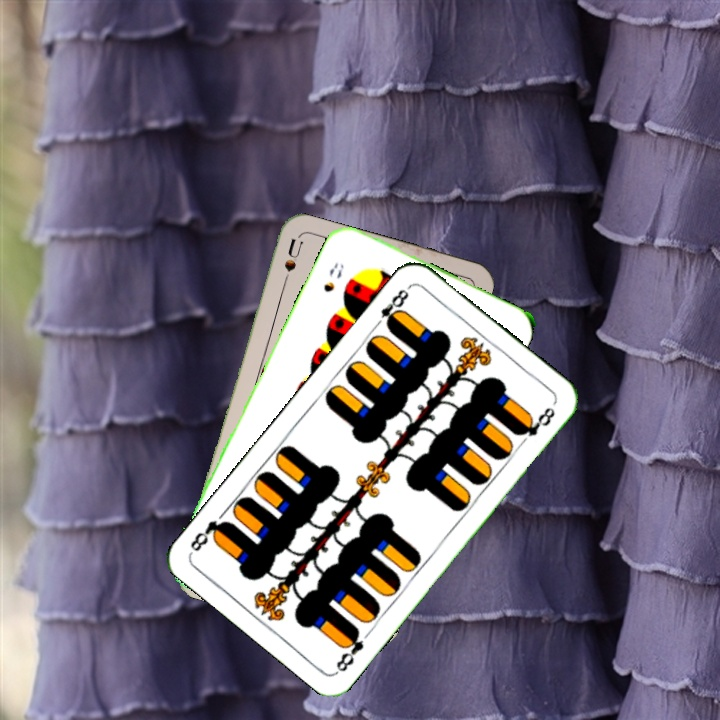E8: (370, 285, 412, 332), (332, 624, 367, 675)
S8: (319, 258, 347, 295)
SU: (276, 235, 304, 295)
